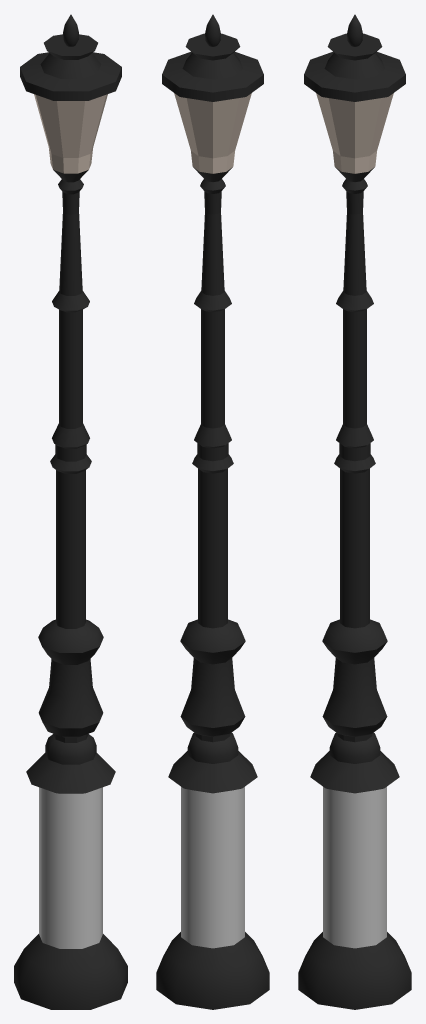
File: streetlight.FBX
3 renders of one model, left to right at view 1: azimuth 90°, elevation 25°; view 2: azimuth 150°, elevation 25°; view 3: azimuth 270°, elevation 25°, orthographic.
Parts seen in each view (by area): view 1: Cylinder001; view 2: Cylinder001; view 3: Cylinder001.
Part boxes in pixels (x1,y1,x2,y2): Cylinder001: (14,14,127,1009); Cylinder001: (156,14,269,1009); Cylinder001: (298,14,411,1009).
Size of the model in its own units: 3.93 by 37.67 by 3.99.
